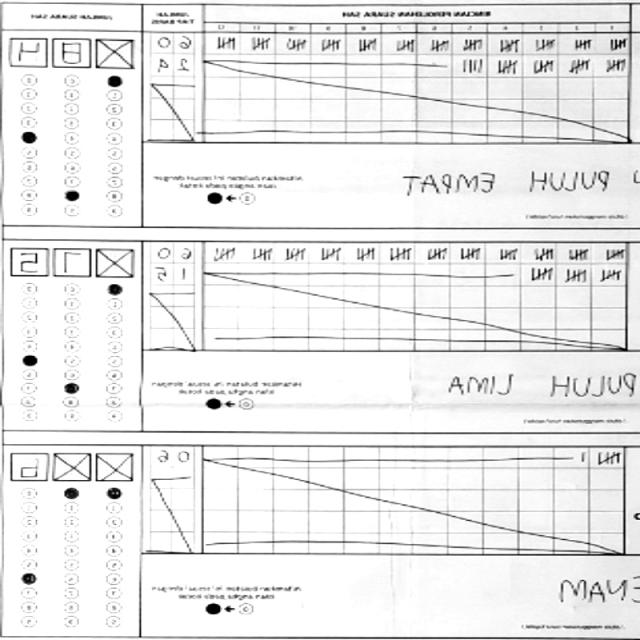Suara: (6, 447, 141, 485), (6, 243, 141, 281), (6, 36, 140, 74)
